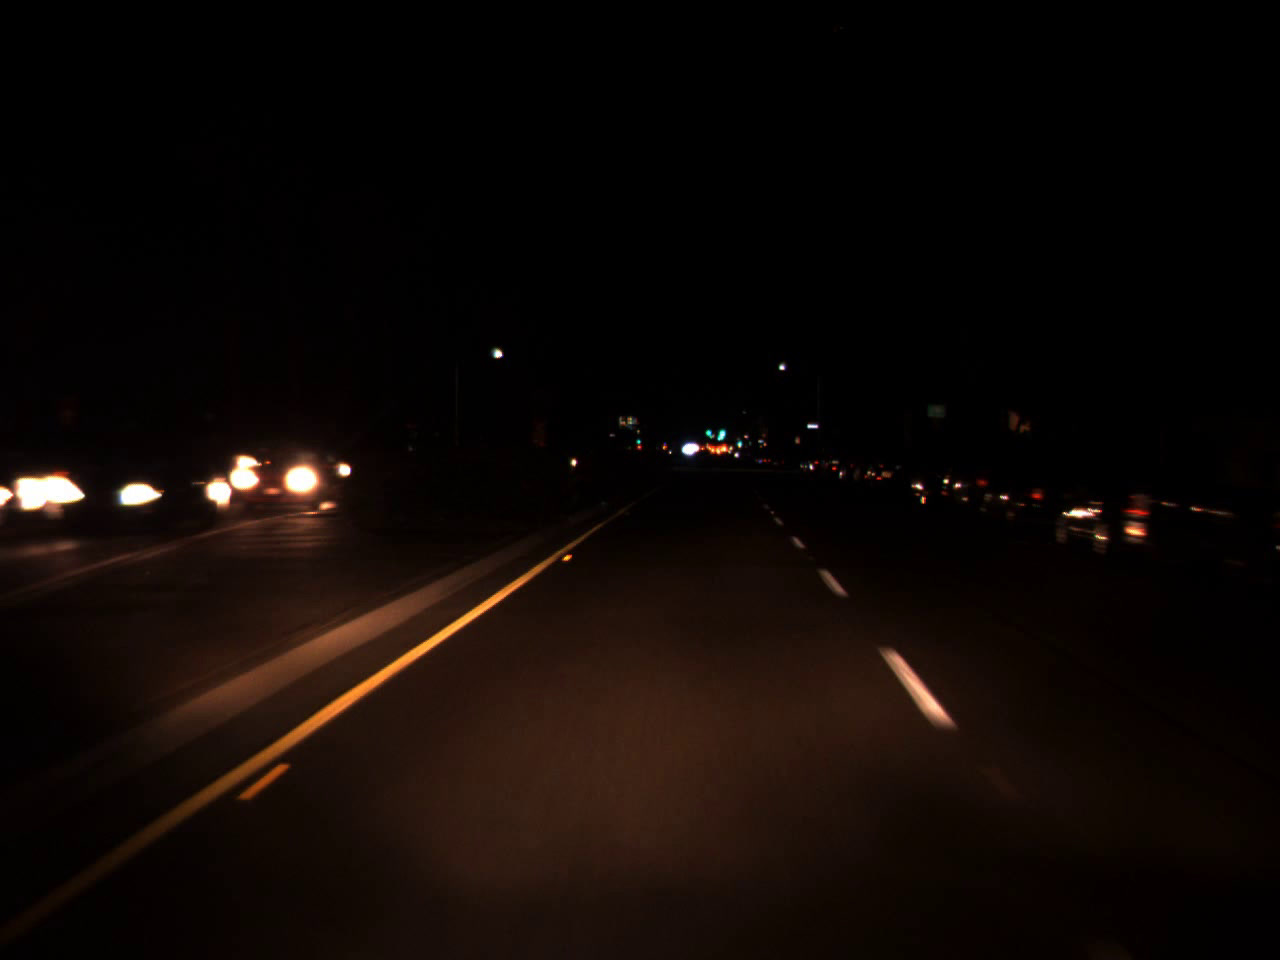go: (716, 421, 726, 439), (633, 433, 642, 445), (703, 425, 711, 437)
